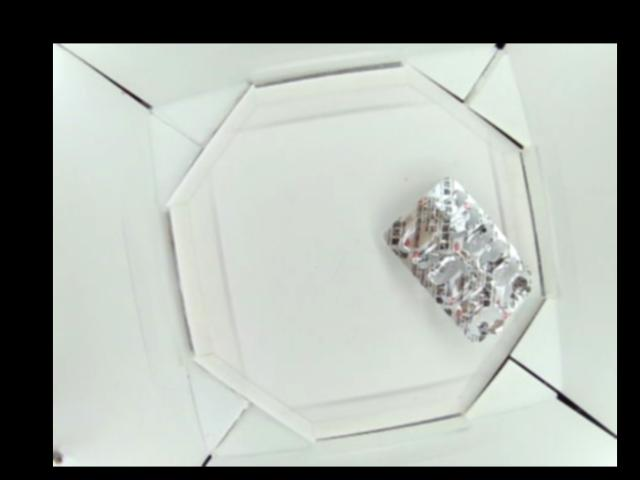Medicine: (380, 171, 534, 342)
